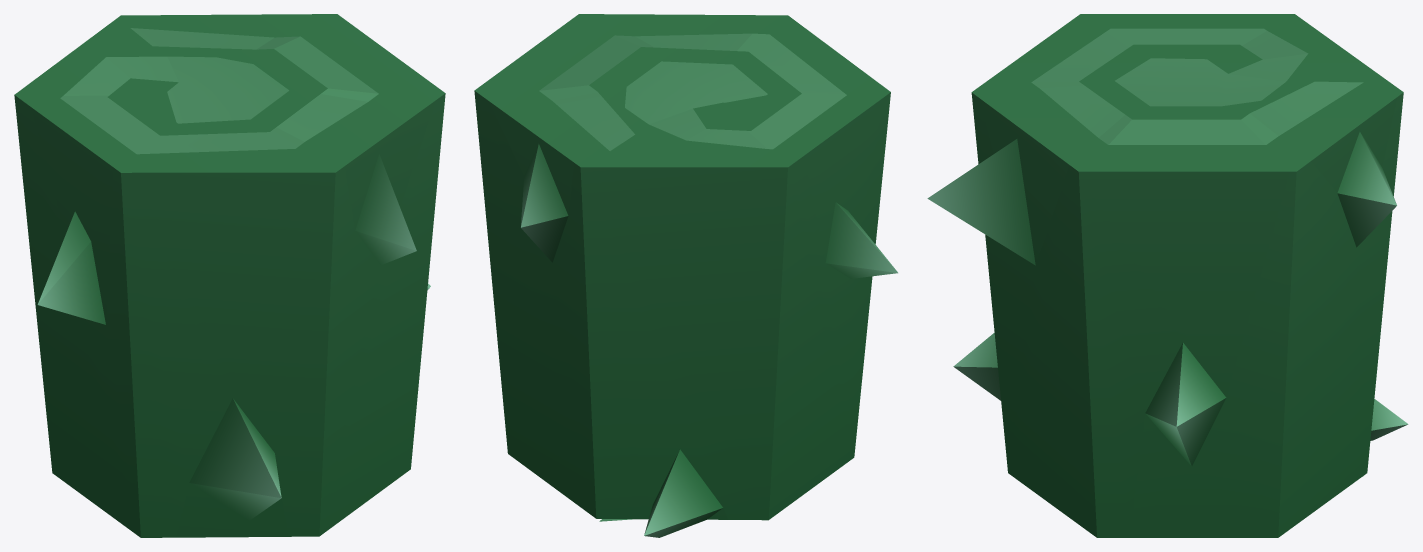
The model's file is Cactus_farm.fbx.
The picture shows the model from 3 angles, left to right: view 1: azimuth 30°, elevation 25°; view 2: azimuth 150°, elevation 25°; view 3: azimuth 270°, elevation 25°; orthographic projection. The views are drawn at different scales.
Parts seen in each view (by area): view 1: 5.018; view 2: 5.018; view 3: 5.018.
Part boxes in pixels (x1,y1,x2,y2): 5.018: (14,14,445,537); 5.018: (474,14,897,537); 5.018: (927,14,1408,537).
Size of the model in its own units: 0.7849 by 0.8059 by 0.731.
